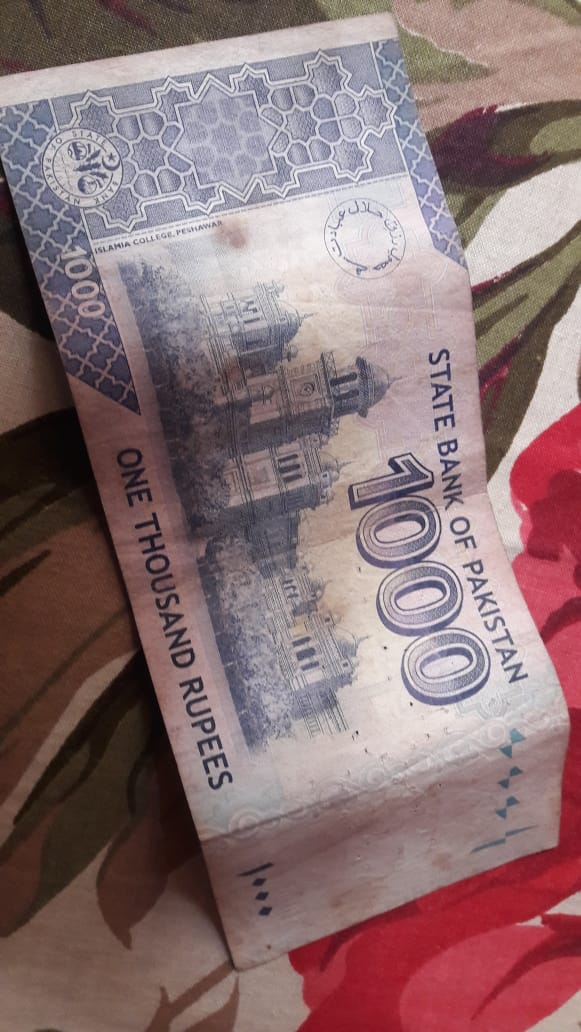1000 rupee: (3, 37, 578, 975)
